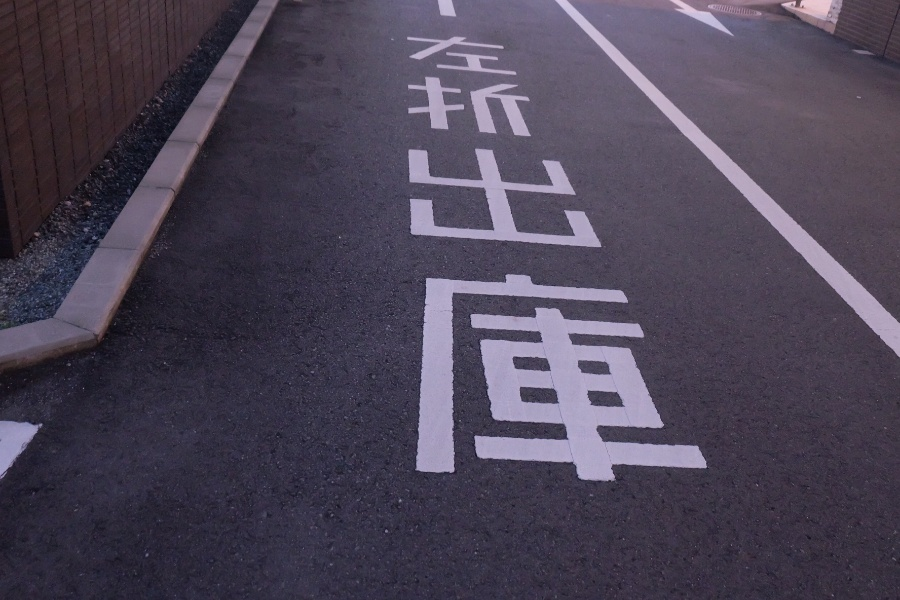text: (705, 31, 721, 487), (417, 31, 432, 487), (433, 31, 448, 487), (449, 31, 464, 487), (465, 31, 480, 487), (481, 31, 496, 487), (497, 31, 512, 487), (513, 31, 528, 487), (529, 31, 544, 487), (545, 31, 560, 487), (561, 31, 576, 487), (577, 31, 592, 487), (593, 31, 608, 487), (609, 31, 624, 487), (625, 31, 640, 487), (641, 31, 656, 487), (657, 31, 672, 487), (673, 31, 688, 487), (689, 31, 704, 487), (405, 31, 416, 487)
